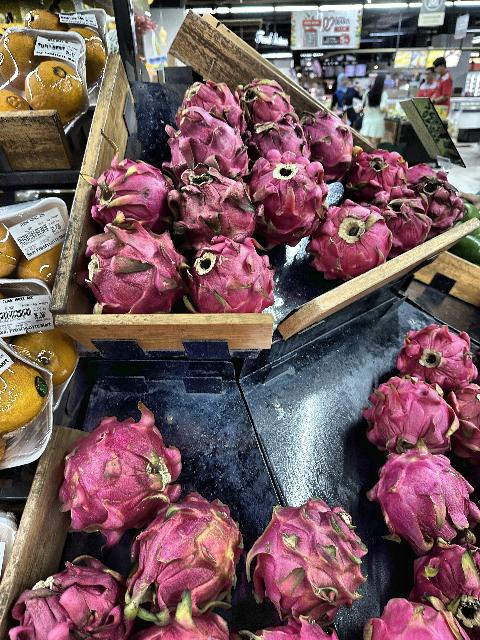buah-naga-belum-matang: (56, 416, 182, 538), (239, 506, 369, 624), (128, 498, 248, 614), (233, 74, 294, 128), (440, 388, 480, 462)
buah-naga-matang: (358, 442, 480, 544), (67, 228, 191, 312), (388, 530, 480, 638), (12, 558, 132, 640), (304, 190, 394, 282), (185, 234, 281, 320), (240, 154, 330, 244), (160, 167, 262, 246), (360, 372, 456, 454), (85, 147, 176, 230), (155, 116, 261, 180), (164, 72, 253, 142), (396, 316, 474, 388), (366, 182, 436, 244), (363, 598, 465, 640), (244, 119, 322, 171), (300, 111, 356, 180), (344, 144, 406, 202)
